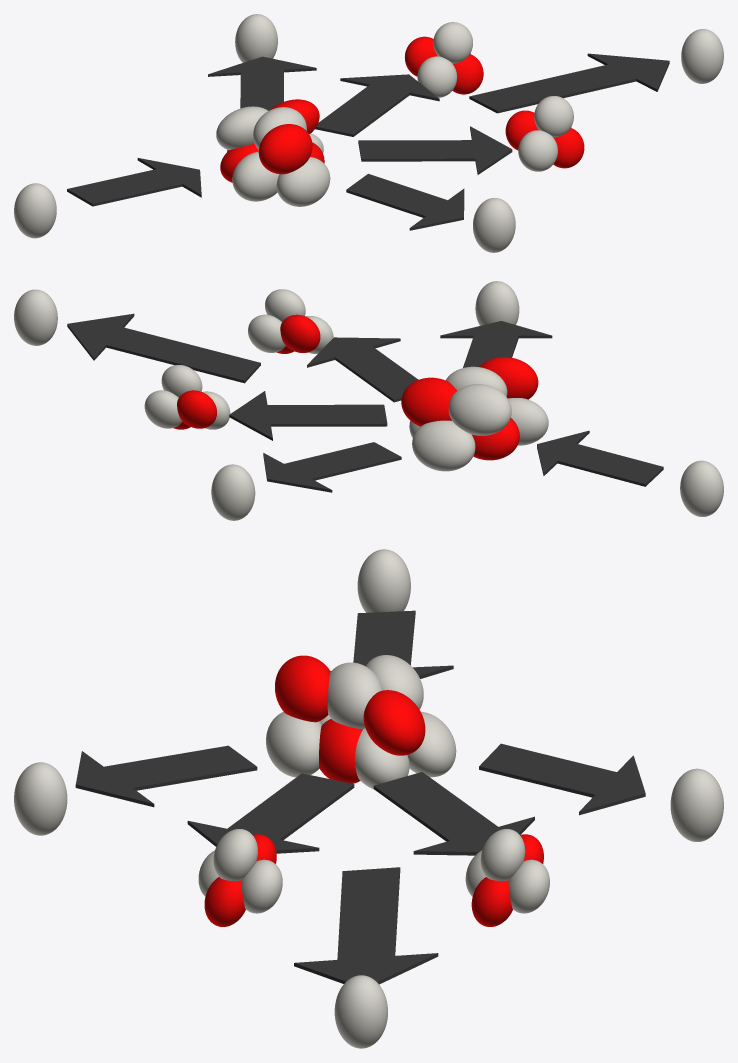
Rendered from nuclear_fission.glb.
3 views of the same model, one above another, from view 1: azimuth 30°, elevation 25°; view 2: azimuth 150°, elevation 25°; view 3: azimuth 270°, elevation 25° (orthographic). The views are drawn at different scales.
Parts seen in each view (by area): view 1: Object_4, Object_2, Object_3; view 2: Object_4, Object_2, Object_3; view 3: Object_4, Object_2, Object_3.
Boxes of the visible parts, x1=… form: Object_4: x1=67, y1=53, x2=669, y2=230; Object_2: x1=14, y1=14, x2=723, y2=252; Object_3: x1=220, y1=36, x2=584, y2=182; Object_4: x1=67, y1=313, x2=663, y2=492; Object_2: x1=14, y1=281, x2=723, y2=520; Object_3: x1=173, y1=314, x2=538, y2=460; Object_4: x1=75, y1=610, x2=645, y2=984; Object_2: x1=14, y1=549, x2=723, y2=1048; Object_3: x1=204, y1=655, x2=543, y2=926.
Size of the model in its own units: 140 by 15 by 93.
